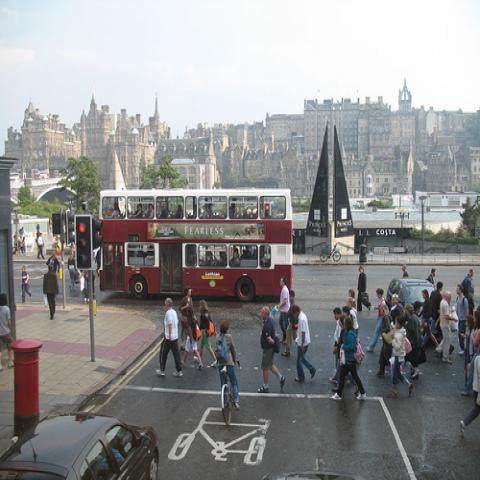bus: (100, 189, 291, 305)
car: (1, 411, 161, 479), (385, 276, 438, 304)
